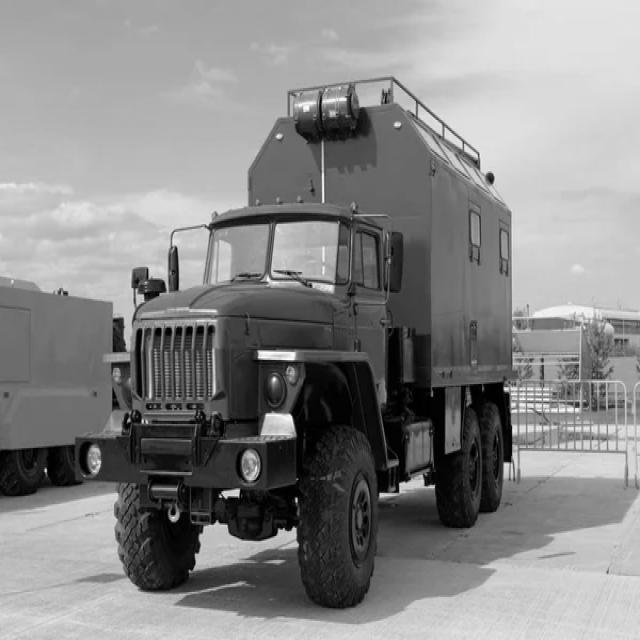Truck: (75, 80, 512, 608)
